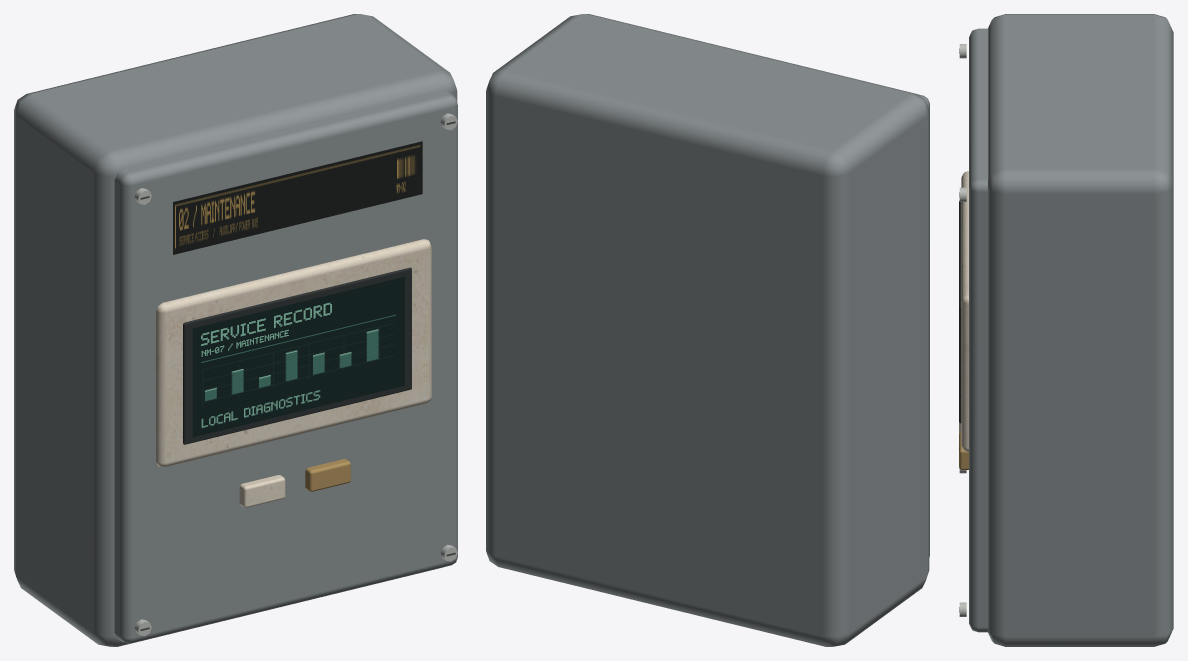
The model's file is maintenance-note.glb.
The picture shows the model from 3 angles, left to right: view 1: azimuth 30°, elevation 25°; view 2: azimuth 150°, elevation 25°; view 3: azimuth 270°, elevation 25°; orthographic projection. The views are drawn at different scales.
Visible parts, largest first — view 1: wall-housing; view 2: wall-housing; view 3: wall-housing.
Boxes of the visible parts, left/top/right/bottom form: wall-housing: left=14, top=14, right=457, bottom=646; wall-housing: left=486, top=14, right=929, bottom=646; wall-housing: left=959, top=14, right=1173, bottom=646.
Size of the model in its own units: 0.58 by 0.76 by 0.31.
Materials: 8 (4 with a texture image).
